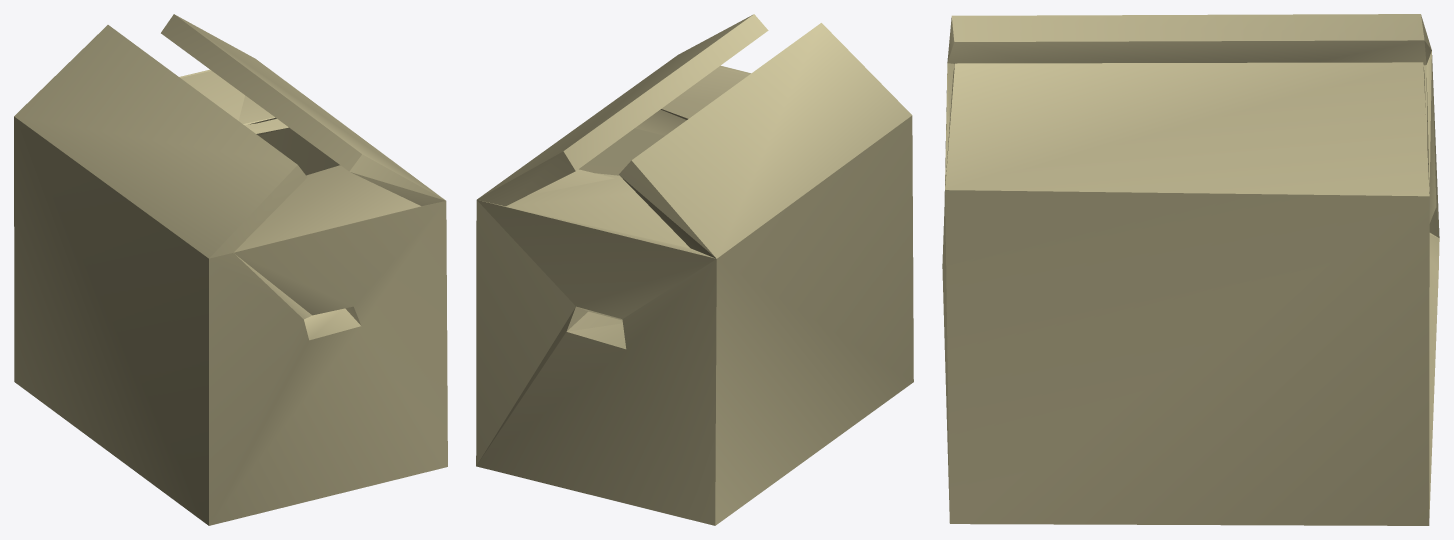
The picture shows the model from 3 angles, left to right: view 1: azimuth 30°, elevation 25°; view 2: azimuth 150°, elevation 25°; view 3: azimuth 270°, elevation 25°; orthographic projection. The views are drawn at different scales.
Visible parts, largest first — view 1: Box03; view 2: Box03; view 3: Box03.
Boxes of the visible parts, x1,y1,x2,y2 form: Box03: (14, 14, 447, 525); Box03: (476, 14, 913, 525); Box03: (942, 14, 1439, 525).
Bounding box in the file's own units: 41.86 × 56.17 × 60.2.
